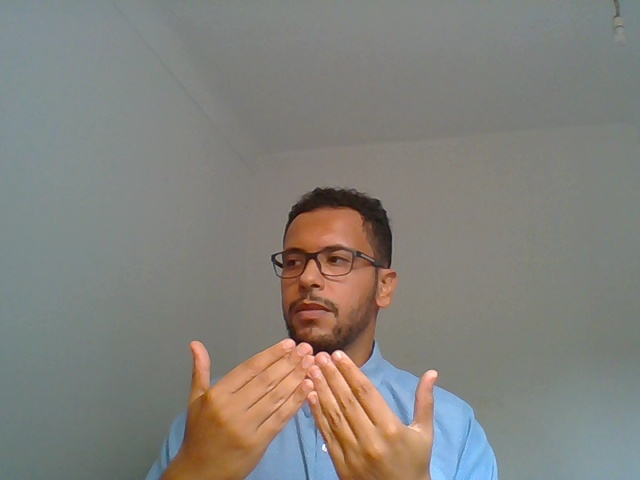thanks: (84, 332, 515, 480)
